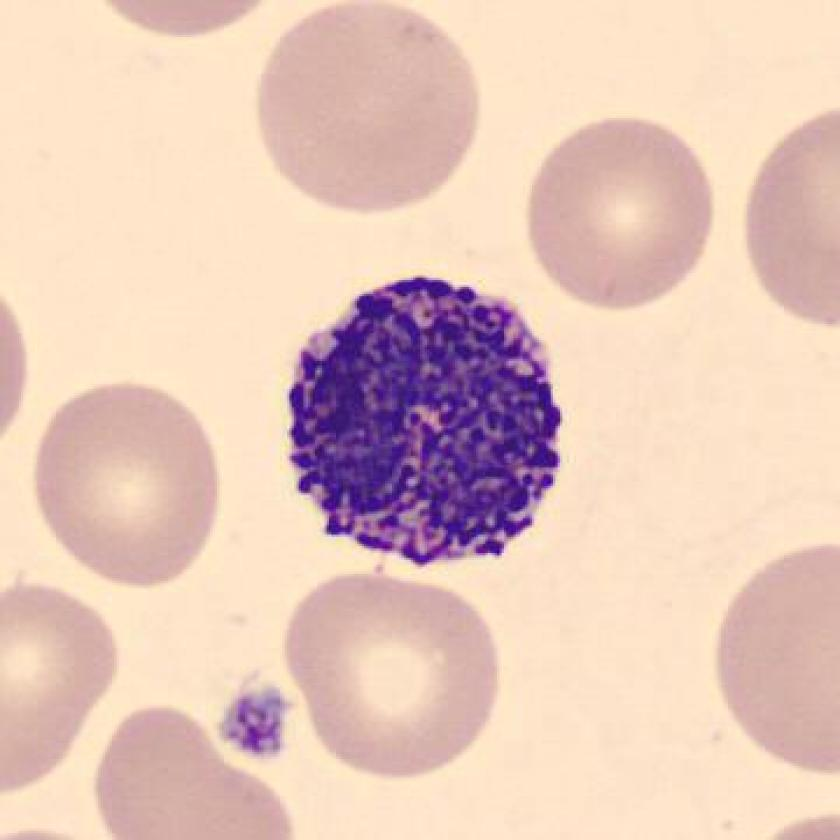basophil: (267, 270, 575, 580)
